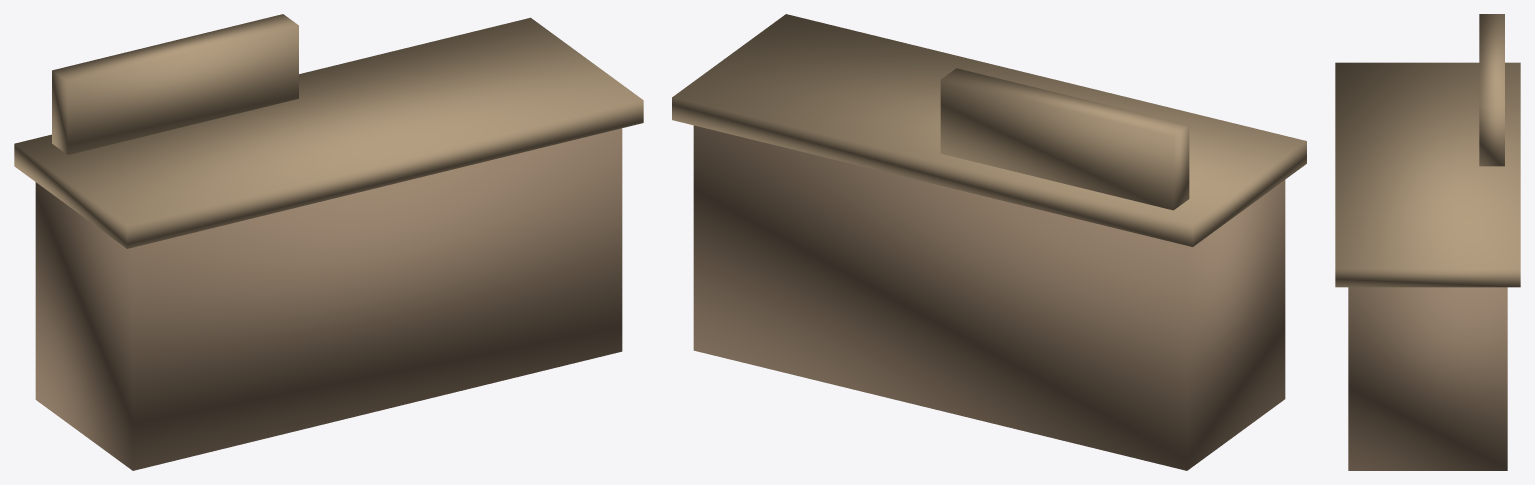
File: security_desk__reinforced.glb
The picture shows the model from 3 angles, left to right: view 1: azimuth 30°, elevation 25°; view 2: azimuth 150°, elevation 25°; view 3: azimuth 270°, elevation 25°; orthographic projection. The views are drawn at different scales.
Parts seen in each view (by area): view 1: world; view 2: world; view 3: world.
Boxes of the visible parts, bbox=[...] form: world: bbox=[14, 14, 643, 470]; world: bbox=[672, 14, 1306, 470]; world: bbox=[1335, 14, 1520, 470].
Size of the model in its own units: 1.96 by 1.18 by 0.7416.
